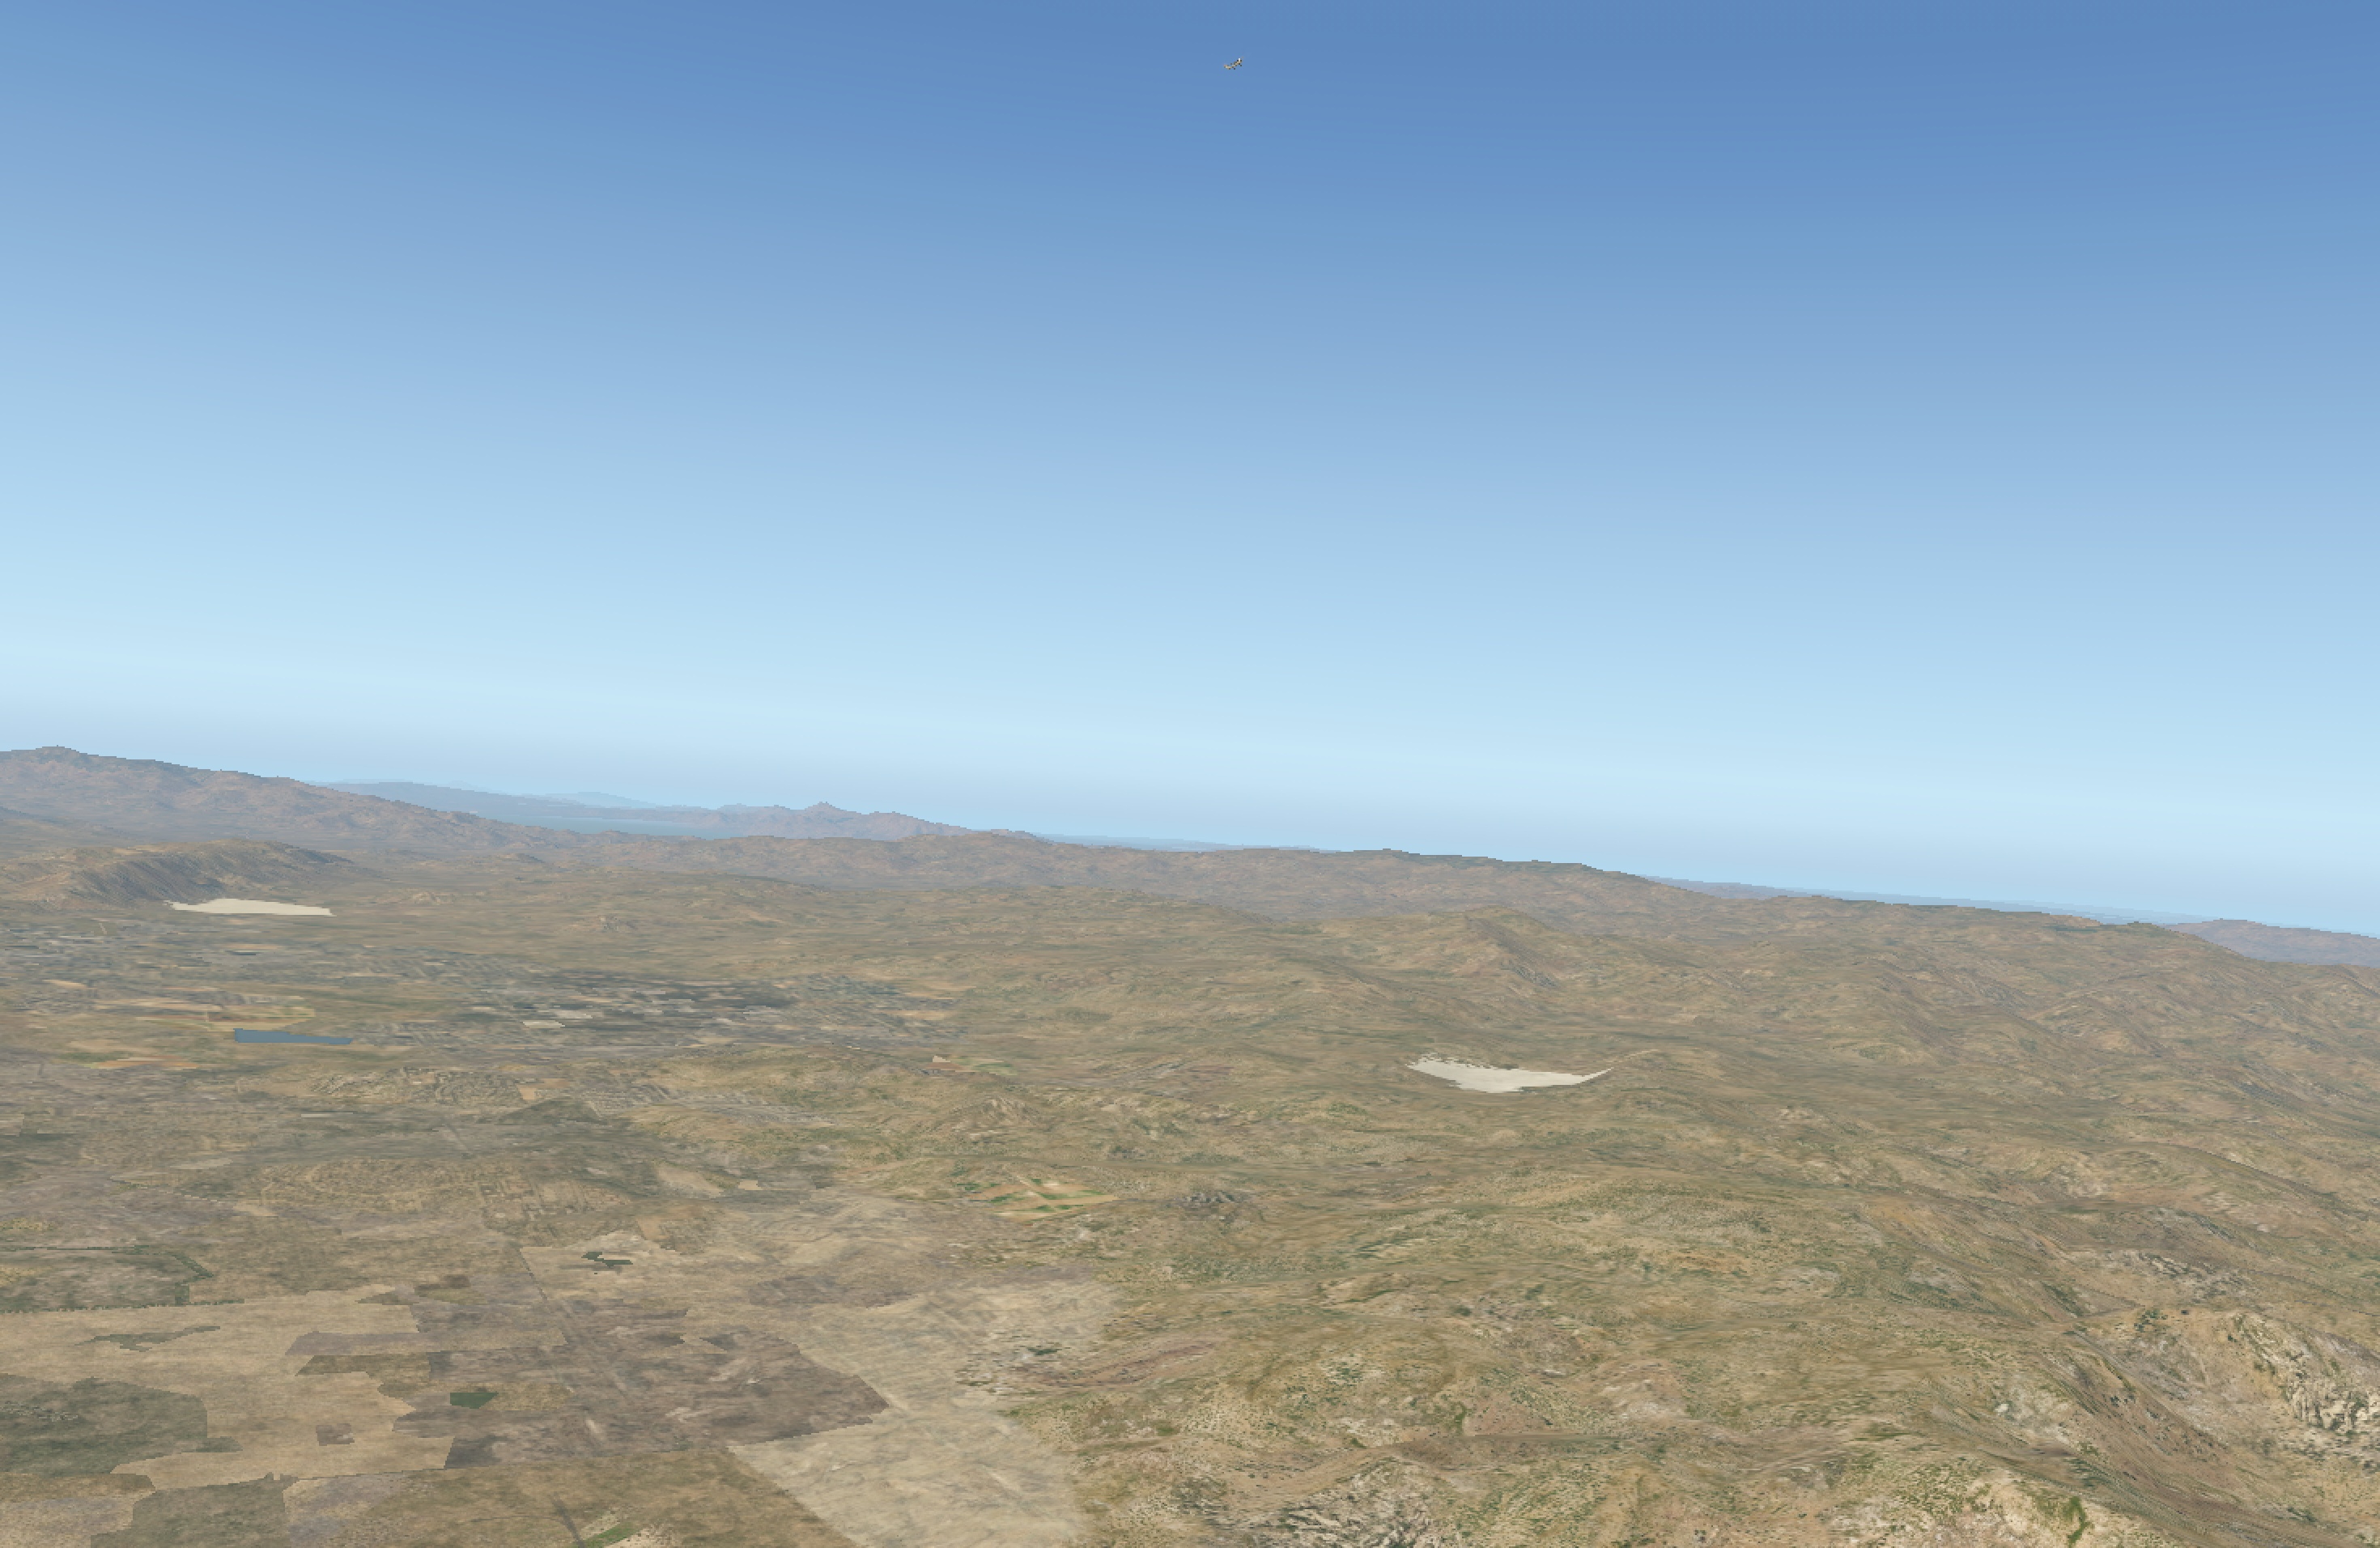aircraft: (1225, 59, 1249, 68)
